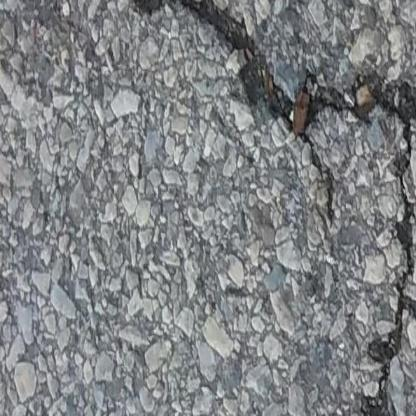Cracks: (131, 0, 416, 416)
